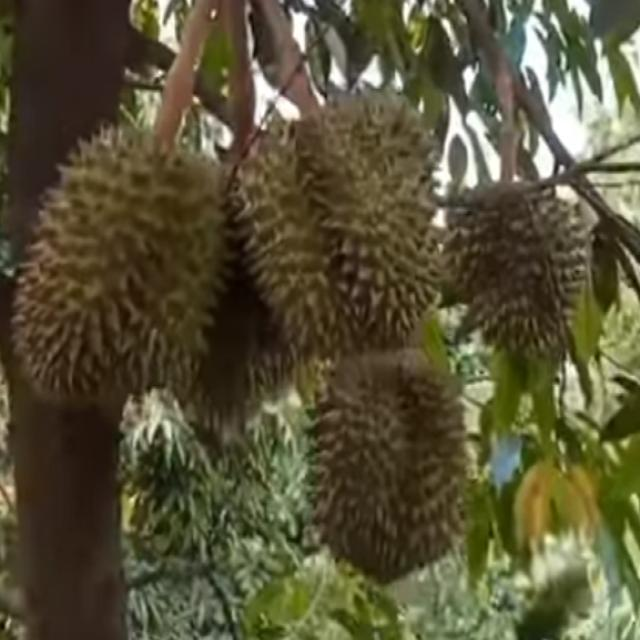mature: (12, 112, 228, 403), (228, 85, 448, 368), (302, 343, 466, 584), (449, 179, 597, 359)
